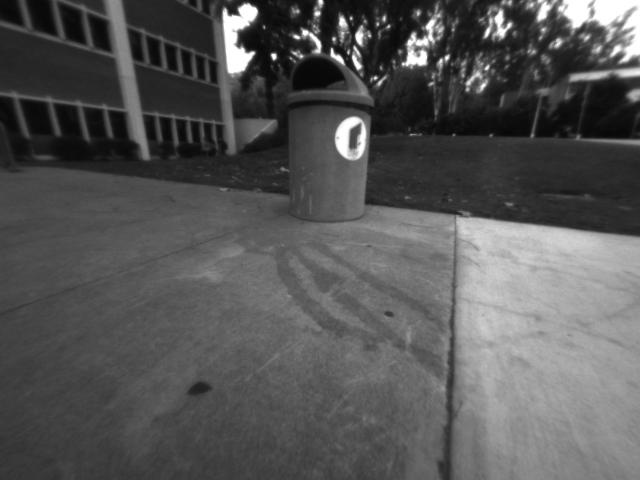trashcan: (282, 51, 374, 226)
